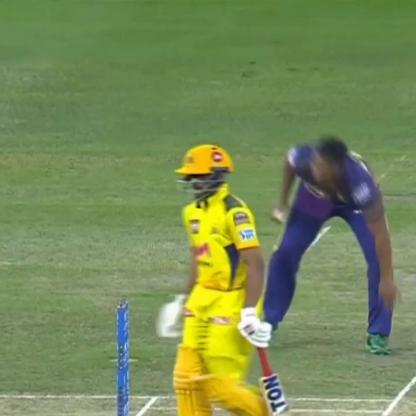ball: (268, 204, 295, 228)
